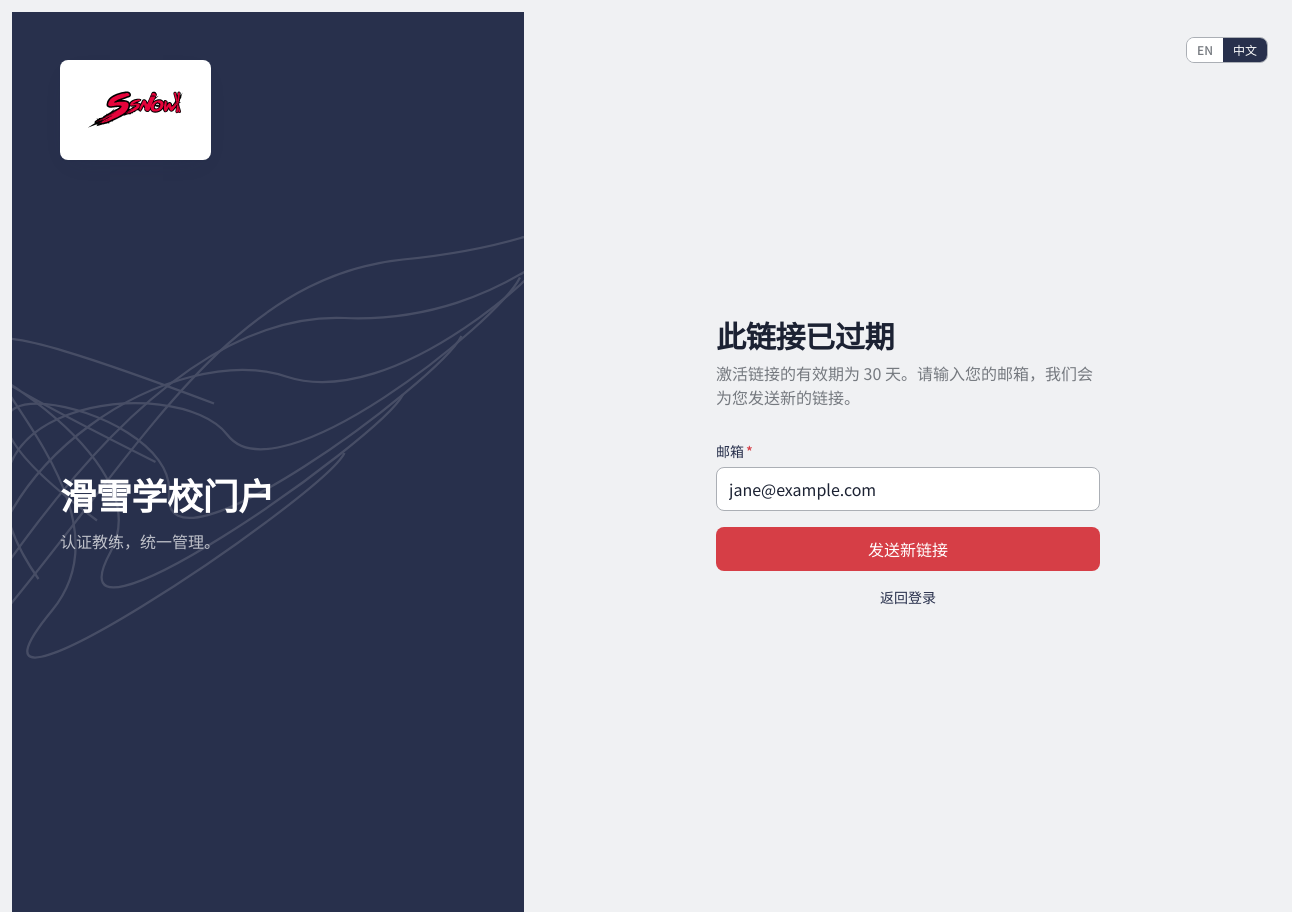
Scenario: ActivatePage › shows the rate-limit message in Chinese
Click the button named "发送新链接" at (908, 549), box [716,527,1100,571]
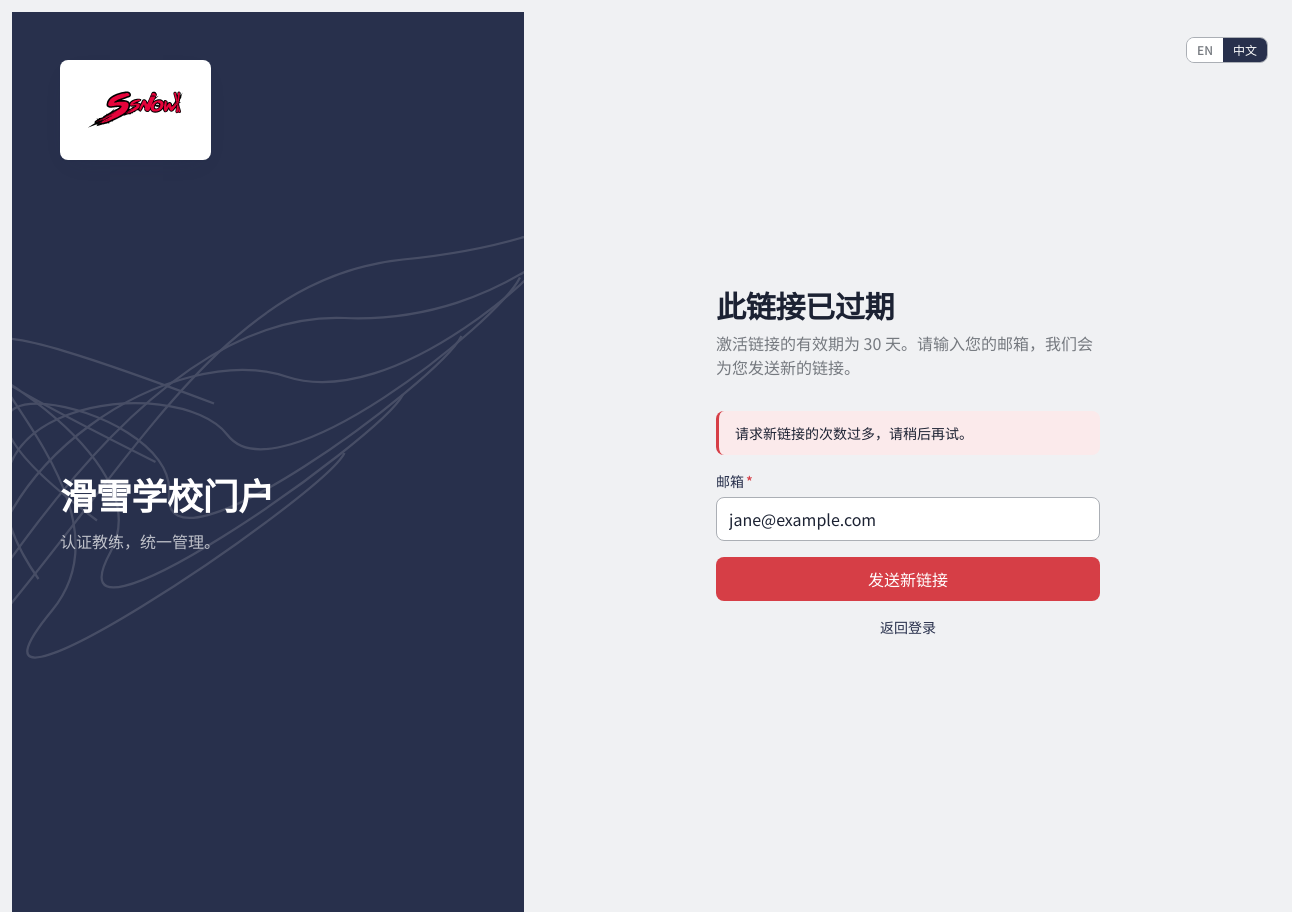
Check: the text "请求新链接的次数过多，请稍后再试。" is shown, box [735,423,973,443]
